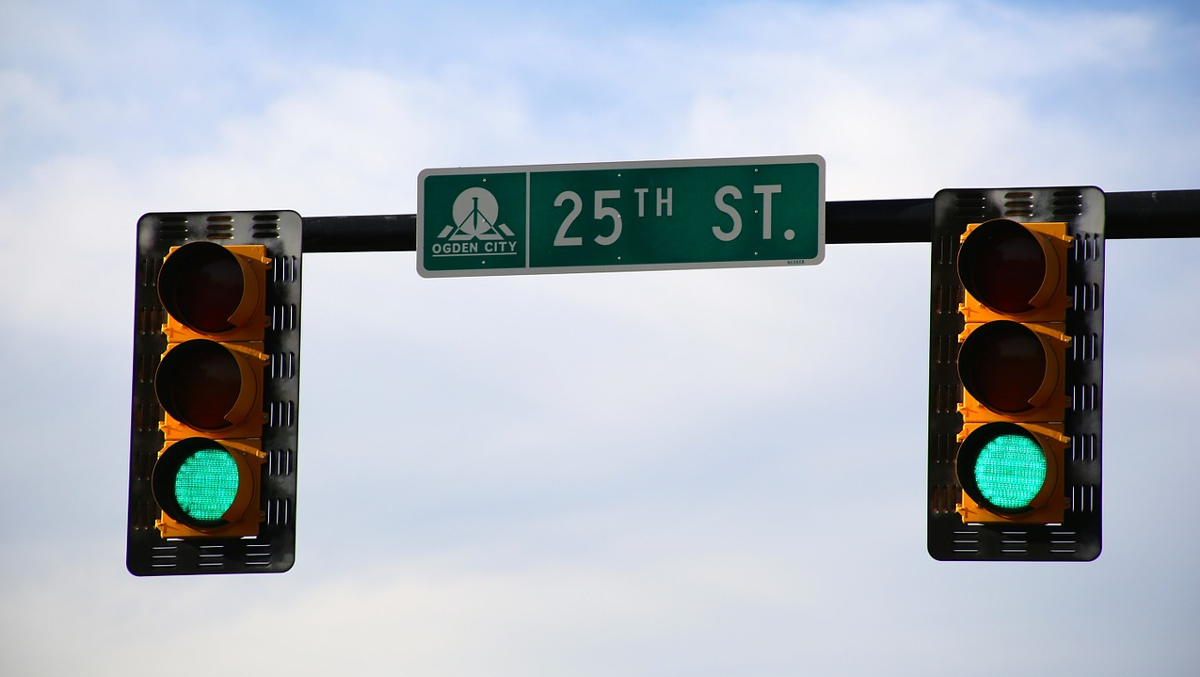Cartel: (417, 162, 826, 266)
Poste: (297, 179, 1200, 262)
Semaforo: (932, 188, 1099, 559), (135, 211, 293, 572)
